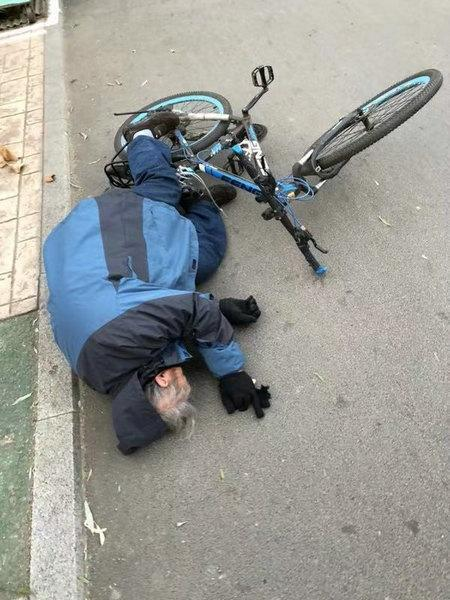Fall-Detected: (33, 81, 268, 470)
